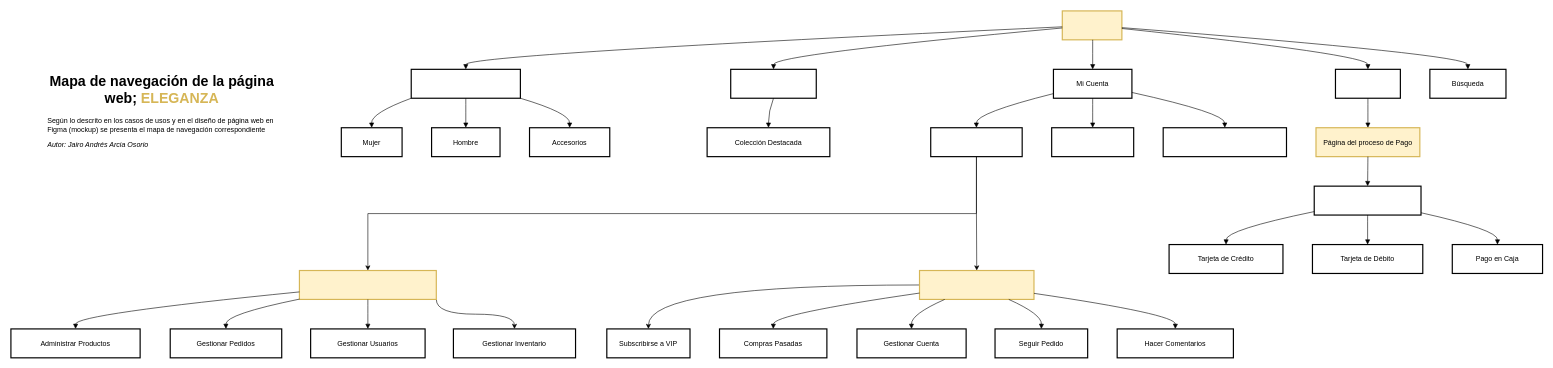
The diagram is 1553 pixels wide and 368 high, and some of its shapes have lost their labels. Here are the shapes that lost their labels. From the top down, the box of each, then its label:
(1061, 10, 1122, 40): Página principal
(410, 68, 521, 99): Nuevos Catálogos
(730, 68, 817, 99): Colecciones
(1335, 68, 1401, 99): Carrito
(930, 127, 1022, 157): Iniciar Sesión
(1051, 127, 1134, 157): Registrarse
(1162, 127, 1287, 157): Recordar Contraseña
(1313, 185, 1421, 215): Métodos de Pago
(299, 270, 437, 300): Página del panel de Administración
(919, 270, 1034, 300): Página del panel de Usuario Registrado
